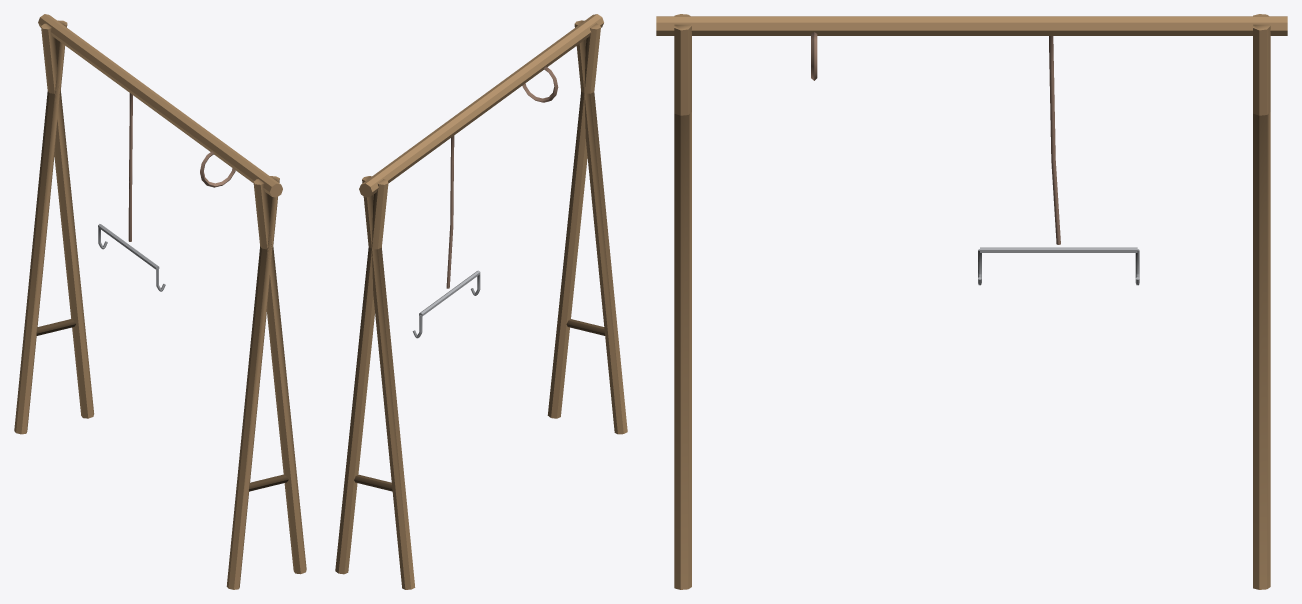
File: rack_dry_t.glb
3 renders of one model, left to right at view 1: azimuth 30°, elevation 25°; view 2: azimuth 150°, elevation 25°; view 3: azimuth 270°, elevation 25°, orthographic. The views are drawn at different scales.
Visible parts, largest first — view 1: PART; view 2: PART; view 3: PART.
Part boxes in pixels (x1,y1,x2,y2): PART: (14, 14, 306, 589); PART: (335, 14, 627, 589); PART: (656, 14, 1287, 589).
Bounding box in the file's own units: 0.4679 × 2.3 × 2.4.
